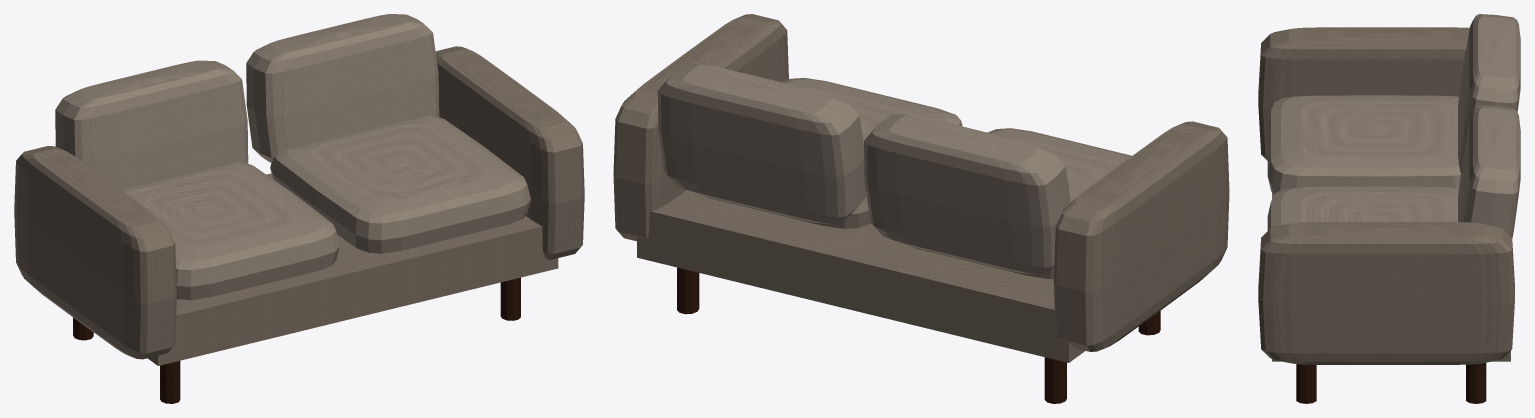
Rendered from sofa-2_lod2.glb.
The picture shows the model from 3 angles, left to right: view 1: azimuth 30°, elevation 25°; view 2: azimuth 150°, elevation 25°; view 3: azimuth 270°, elevation 25°; orthographic projection. The views are drawn at different scales.
Visible parts, largest first — view 1: arm_left, seat_2, base, back_2, back_1, seat_1, arm_right, leg_3, leg_4; view 2: base, arm_left, back_2, back_1, arm_right, seat_2, seat_1, leg_1, leg_2; view 3: arm_right, seat_1, arm_left, back_2, seat_2, back_1, leg_2, leg_4.
Part boxes in pixels (x1,y1,x2,y2): arm_left: (14,146,176,359); seat_2: (270,116,530,253); base: (148,173,558,365); back_2: (246,14,439,162); back_1: (55,60,248,190); seat_1: (122,162,339,300); arm_right: (435,46,584,259); leg_3: (160,361,180,403); leg_4: (500,277,520,320); base: (637,190,1084,362); arm_left: (1053,121,1229,351); back_2: (657,64,866,223); back_1: (864,114,1070,274); arm_right: (613,14,788,241); seat_2: (706,78,962,228); seat_1: (912,128,1131,279); leg_1: (1044,357,1066,403); leg_2: (677,267,699,314); arm_right: (1258,222,1514,364); seat_1: (1267,95,1460,195); arm_left: (1258,27,1469,160); back_2: (1458,105,1520,237); seat_2: (1267,186,1458,230); back_1: (1458,14,1520,172); leg_2: (1466,362,1486,403); leg_4: (1296,364,1316,403).
Size of the model in its own units: 1.75 by 0.86 by 0.9.
Materials: 3 (3 with a texture image).
